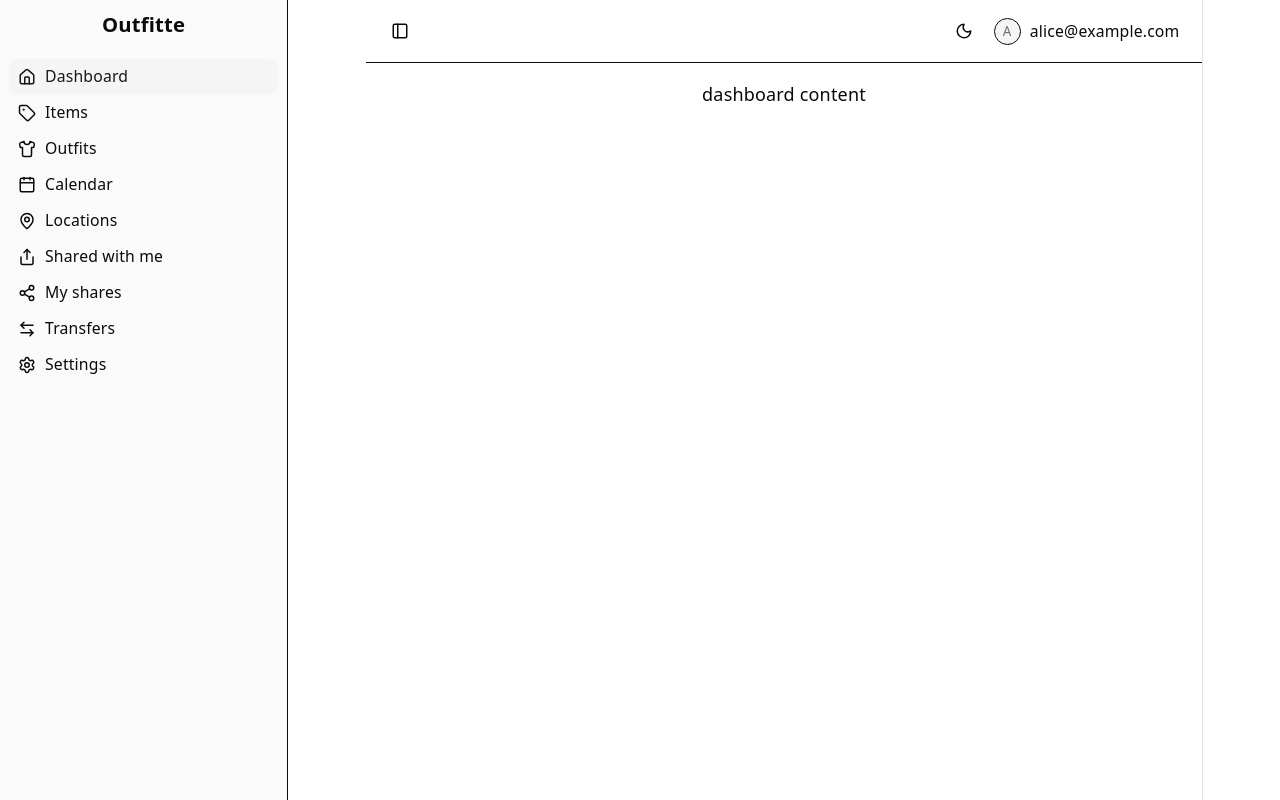
Scenario: AppLayout › AppLayout should show Settings and Log out in user dropdown when opened
Click the button with aria-label "user menu" at (1087, 31), box [989,13,1184,49]
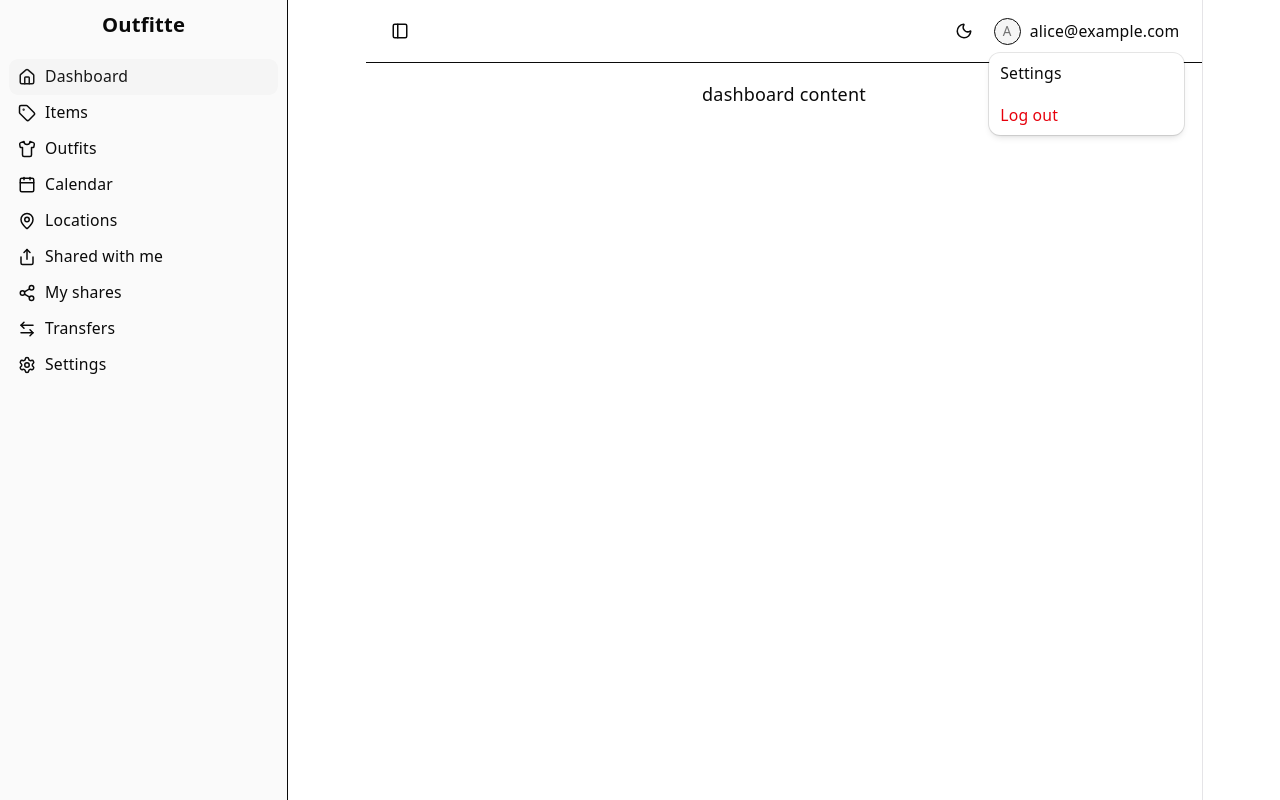
Now the menu item "Settings" is shown, box [1000,62,1062,84]
Now the menu item "Log out" is shown, box [1000,104,1058,126]
